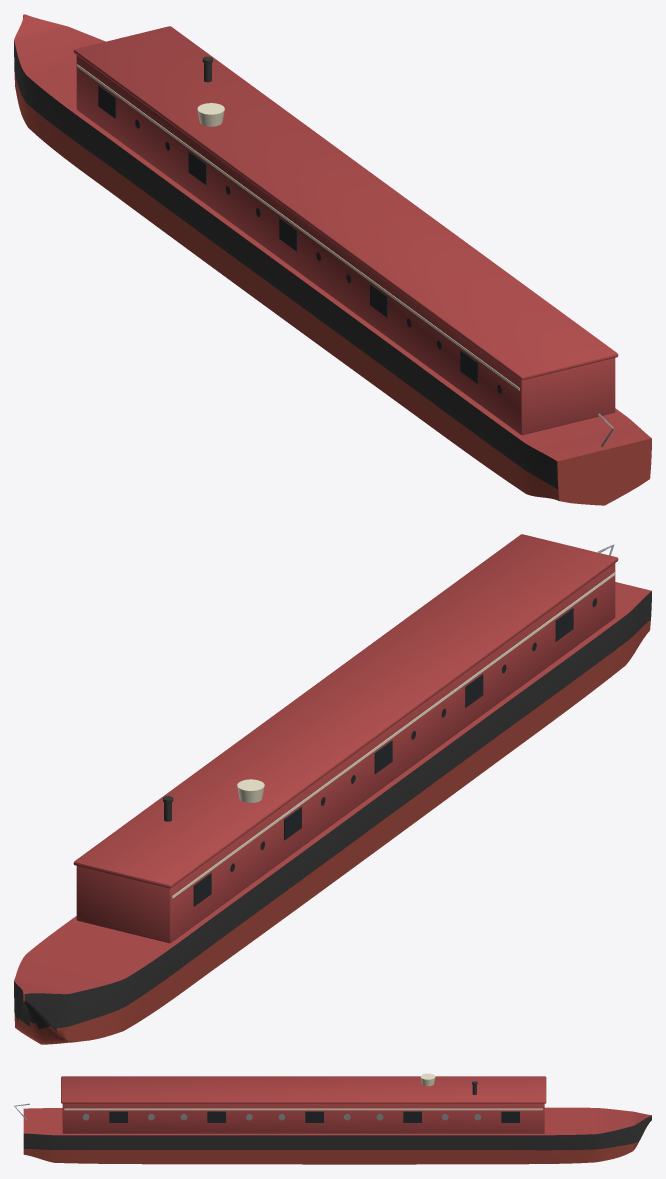
File: boat_narrowboat_red.gltf
3 renders of one model, top to bottom at view 1: azimuth 30°, elevation 25°; view 2: azimuth 150°, elevation 25°; view 3: azimuth 270°, elevation 25°, orthographic. The views are drawn at different scales.
Parts seen in each view (by area): view 1: boat_narrowboat_red; view 2: boat_narrowboat_red; view 3: boat_narrowboat_red.
Boxes of the visible parts, x1,y1,x2,y2 form: boat_narrowboat_red: (14, 14, 651, 505); boat_narrowboat_red: (14, 534, 651, 1044); boat_narrowboat_red: (14, 1073, 651, 1164).
Size of the model in its own units: 2.1 by 2.71 by 20.52.
Materials: 7 (2 with a texture image).
